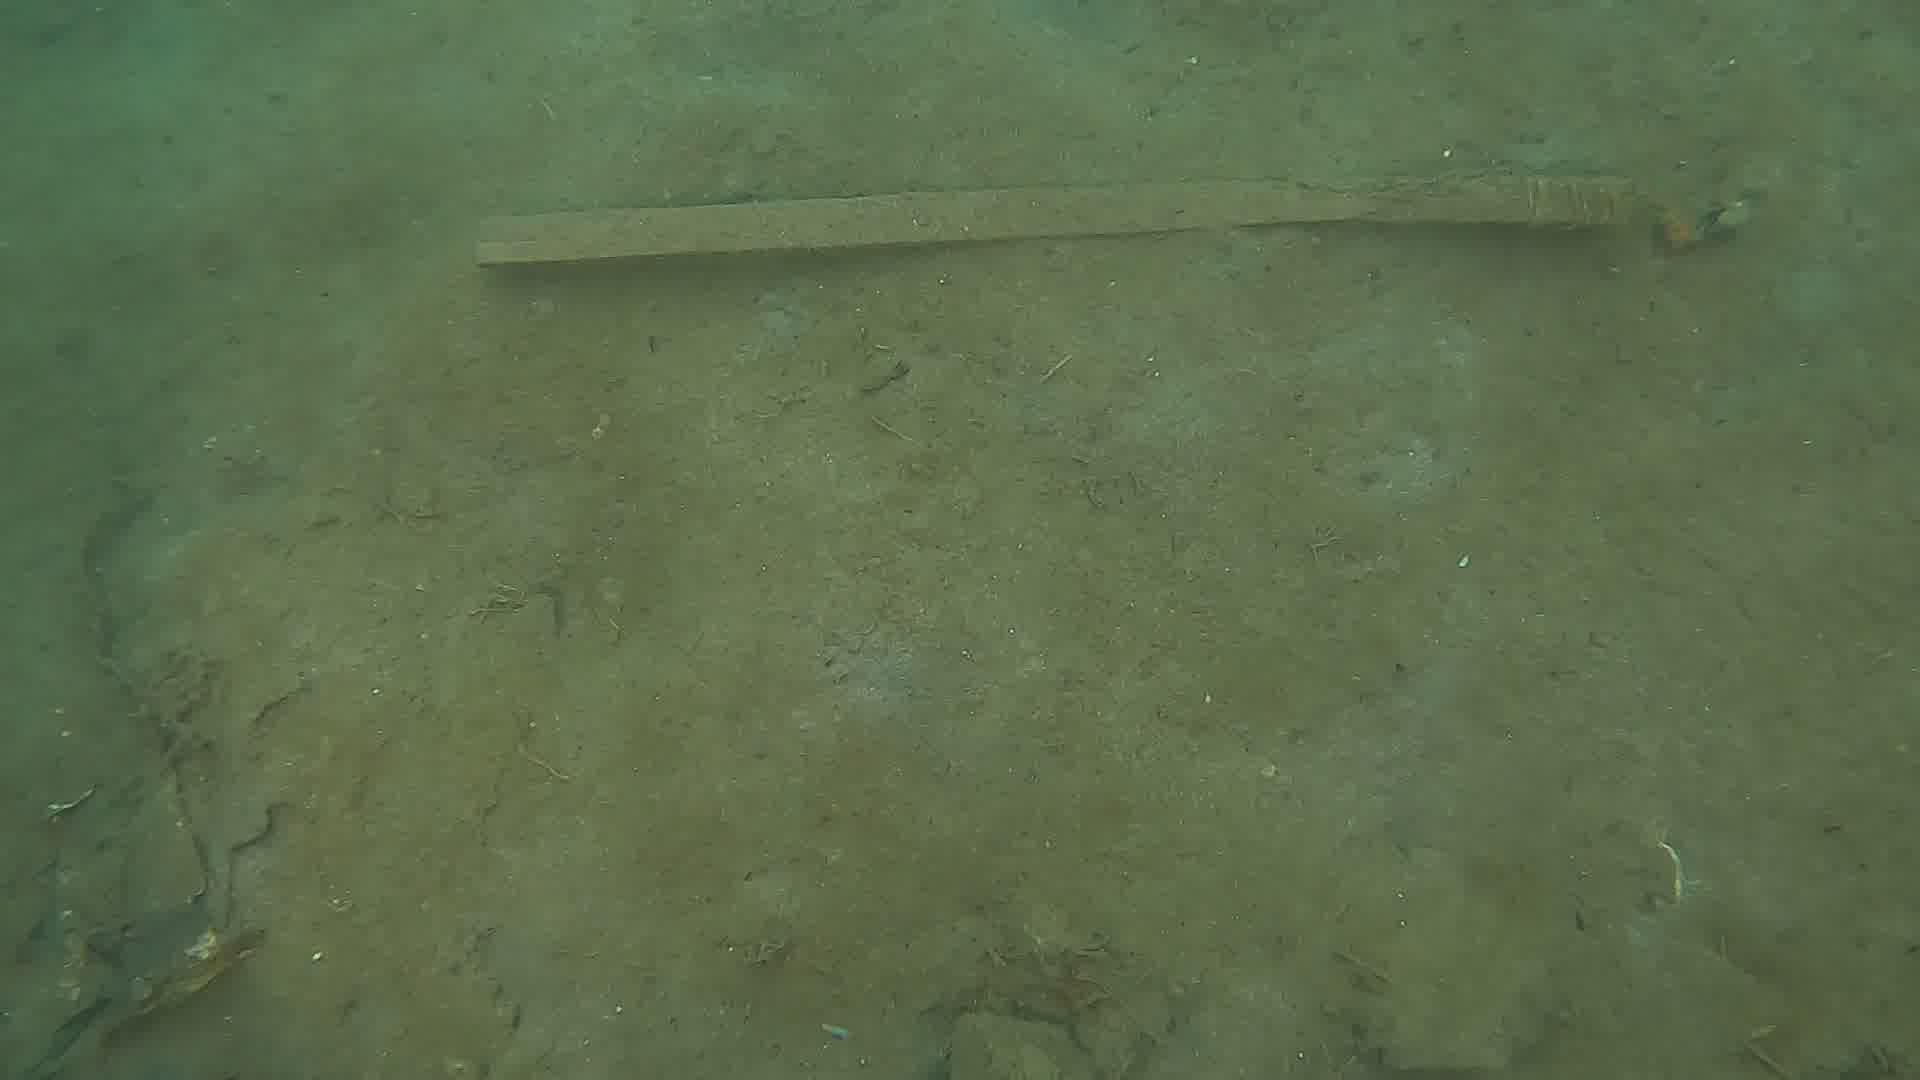wood: (471, 164, 1636, 265)
